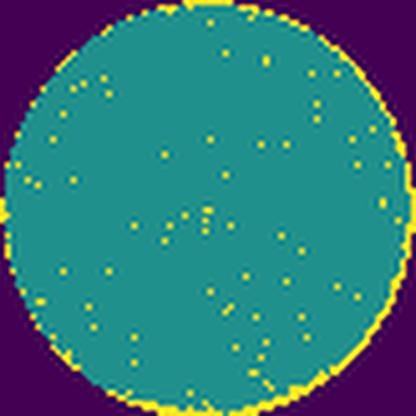Edge-Ring: (95, 0, 416, 415)
